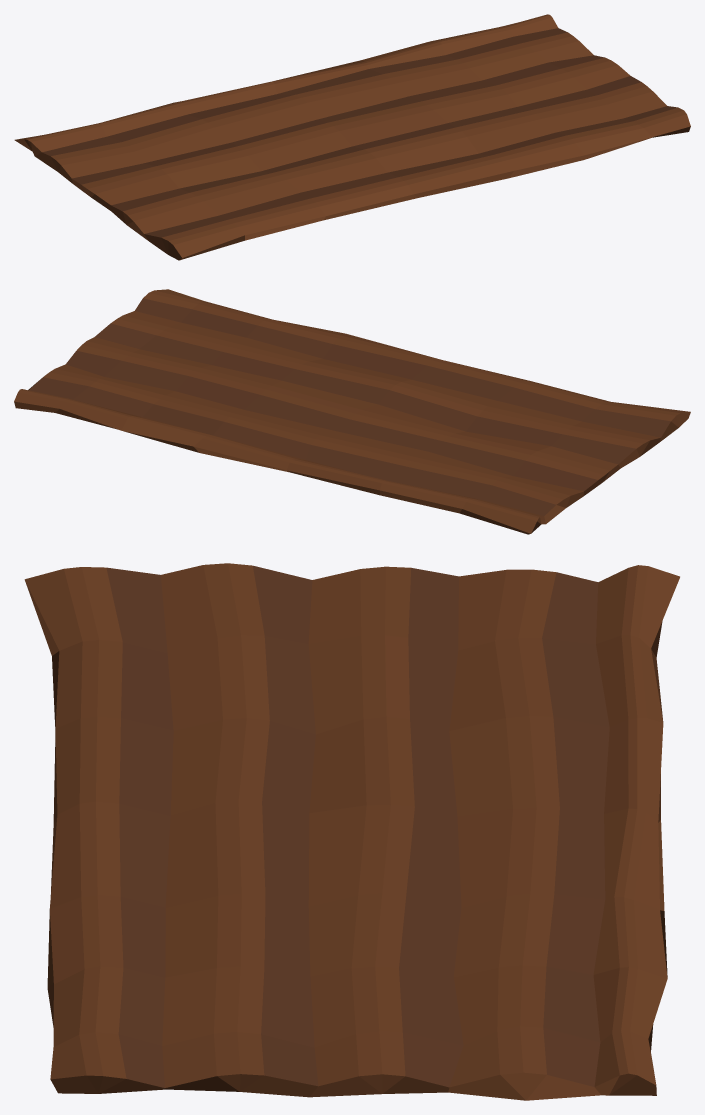
The model's file is ArableLandTile_1.fbx.
3 views of the same model, one above another, from view 1: azimuth 30°, elevation 25°; view 2: azimuth 150°, elevation 25°; view 3: azimuth 270°, elevation 25° (orthographic). The views are drawn at different scales.
Visible parts, largest first — view 1: ArableLandTile_1; view 2: ArableLandTile_1; view 3: ArableLandTile_1.
Part boxes in pixels (x1,y1,x2,y2): ArableLandTile_1: (14,14,690,260); ArableLandTile_1: (14,289,690,534); ArableLandTile_1: (24,563,679,1100).
Bounding box in the file's own units: 787 × 20.04 × 425.
